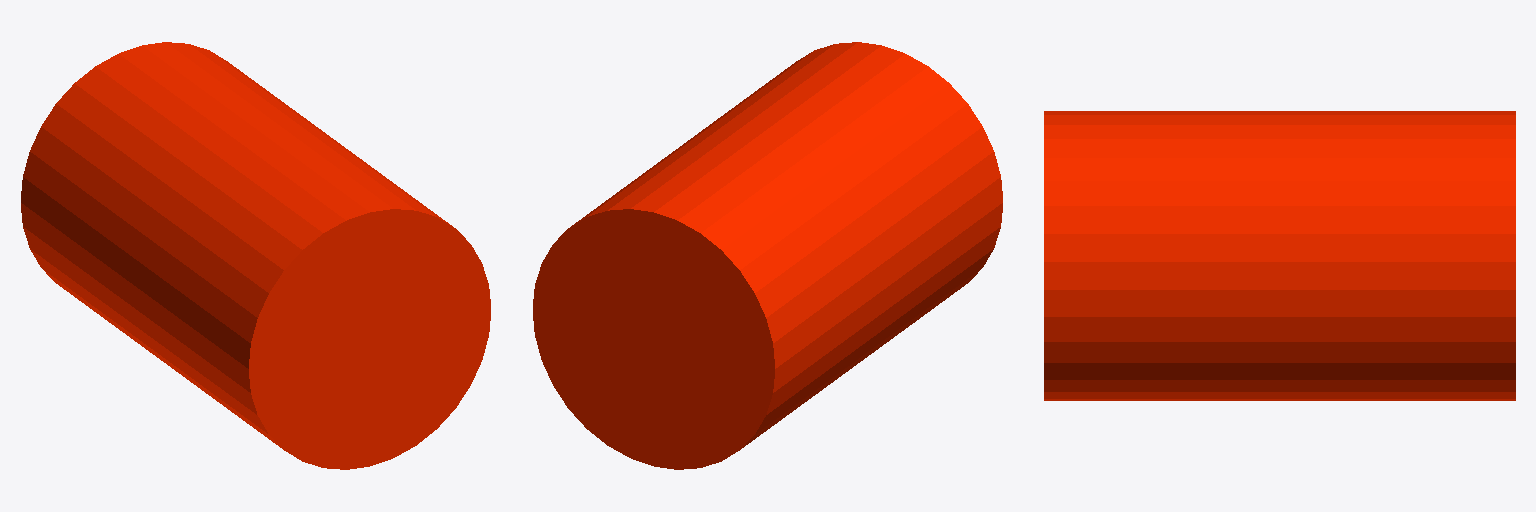
robot.urdf — cube:
<?xml version="1.0"?>
 <robot name="cube">
   <material name="blue">
     <color rgba="0.2 0.63137 0.788 1"/>
   </material>
   <material name="red">
     <color rgba="0.99607843 0.21960784 0.00784314 1"/>
   </material>
   <link name="base_link">
     <visual>
       <geometry>
         <cylinder length="0.1100" radius="0.033829689025878906"/>
       </geometry>
       <material name="red"/>
       <origin xyz="0 0 0" rpy="1.5707963 0 0"/>
     </visual>
     <inertial>
       <mass value="0"/>
       <inertia ixx="1.0" ixy="0.0" ixz="0.0" iyy="1.0" iyz="0.0" izz="1.0"/>
     </inertial>
   </link>
 </robot>

--- Facts derived from the render (not from the file) ---
3 views of the same robot in one strip: view 1: azimuth 30°, elevation 25°; view 2: azimuth 150°, elevation 25°; view 3: azimuth 270°, elevation 25° (orthographic).
Model cube with 1 links and 0 joints (none), rooted at base_link, posed every joint at zero.
Links seen in each view (by area): view 1: base_link; view 2: base_link; view 3: base_link.
Link boxes in pixels (x1,y1,x2,y2): base_link: (21,42,490,469); base_link: (533,42,1002,469); base_link: (1044,111,1515,400).
Bounding box of the posed robot: 0.0677 × 0.11 × 0.0677 m (x, y, z).
Geometry: primitives only (box / cylinder / sphere), no mesh files.